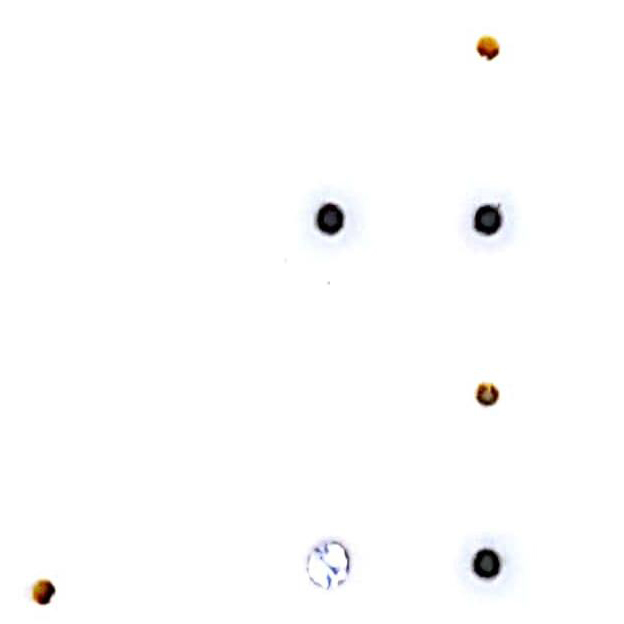abnormal: (290, 525, 371, 598)
cancer: (440, 178, 544, 268), (294, 180, 375, 271), (459, 529, 526, 602)
normal: (461, 28, 518, 78), (27, 559, 76, 609), (470, 370, 517, 419)
